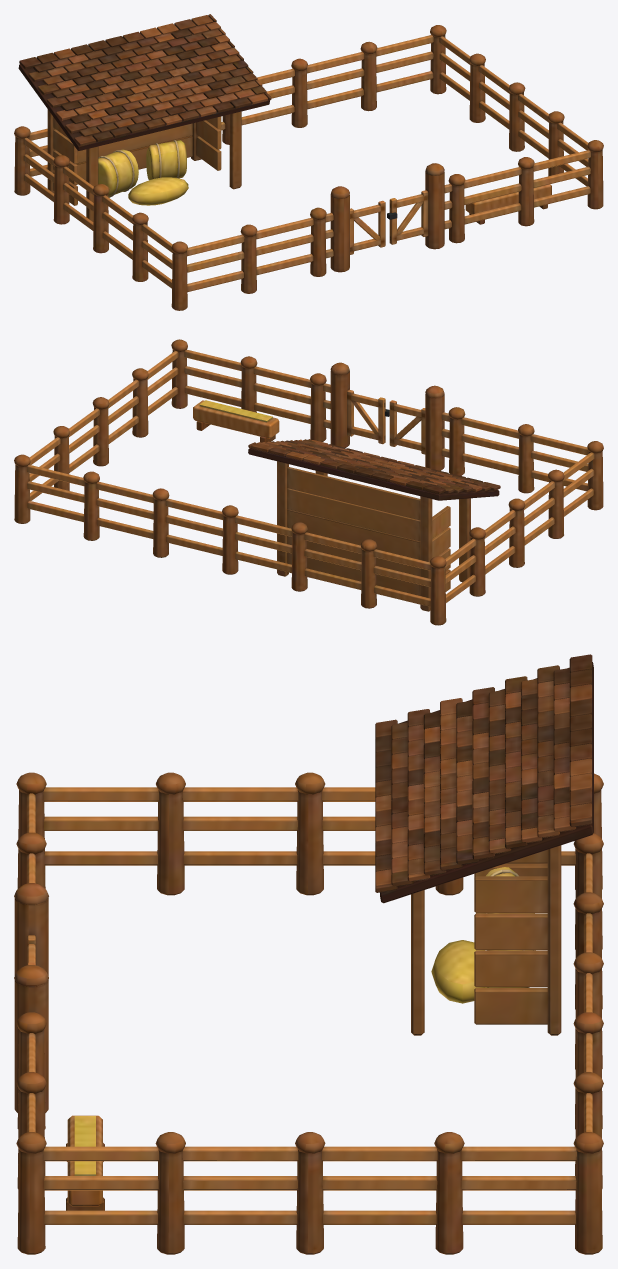
File: donkey_paddock.glb
The picture shows the model from 3 angles, top to bottom: view 1: azimuth 30°, elevation 25°; view 2: azimuth 150°, elevation 25°; view 3: azimuth 270°, elevation 25°; orthographic projection. The views are drawn at different scales.
Visible parts, largest first — view 1: donkey_paddock, gate1, gate0; view 2: donkey_paddock, gate1, gate0; view 3: donkey_paddock.
Part boxes in pixels (box(x1,y1,x2,y2)): donkey_paddock: box(14, 14, 603, 310); gate1: box(387, 190, 428, 244); gate0: box(350, 200, 385, 254); donkey_paddock: box(14, 339, 603, 625); gate1: box(347, 389, 389, 444); gate0: box(389, 400, 425, 454); donkey_paddock: box(14, 654, 603, 1254).
Bounding box in the file's own units: 3 × 0.9343 × 2.01.
Materials: 1 (1 with a texture image).
